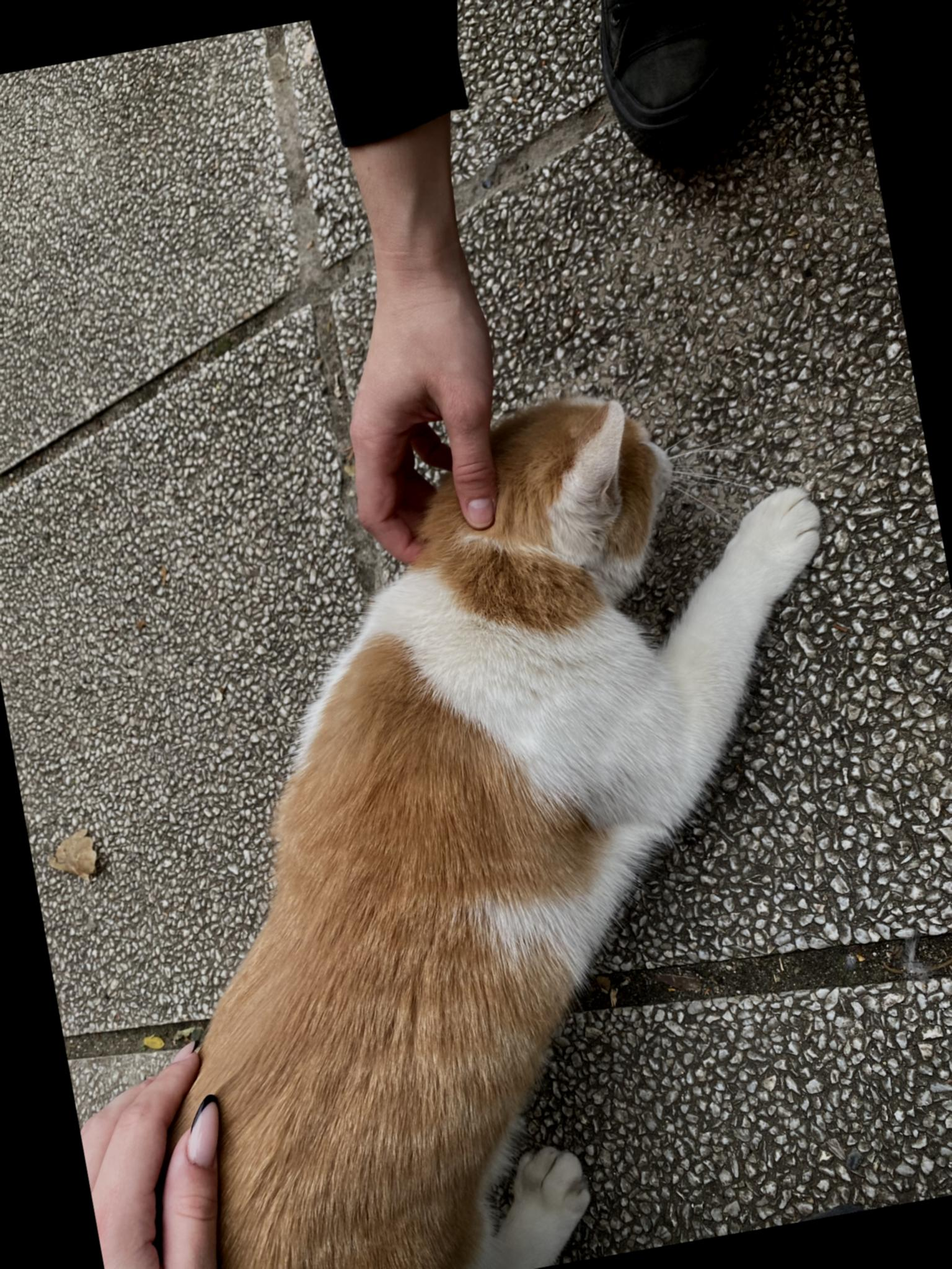macka: (0, 351, 942, 1269)
